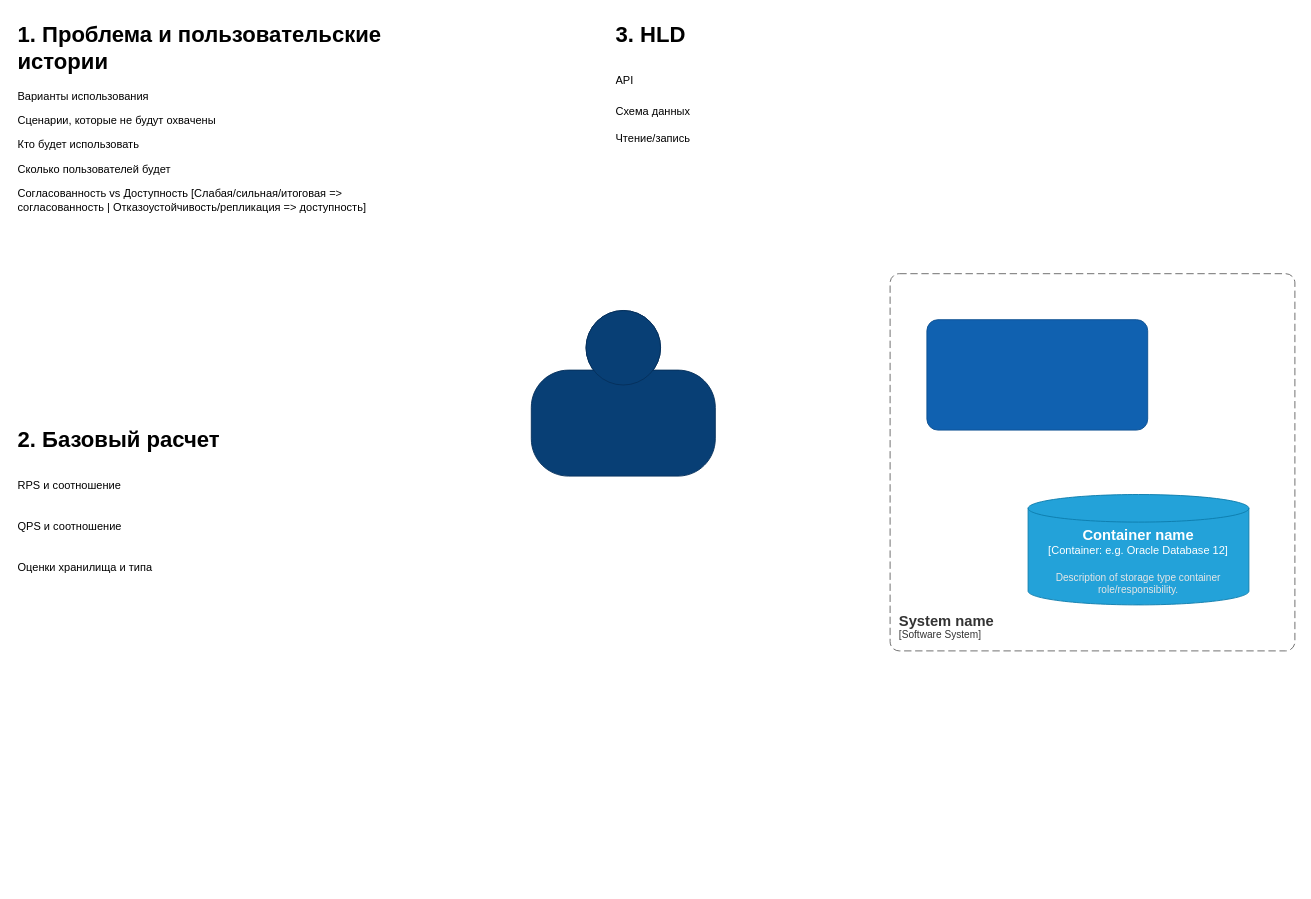
This 1311x899 diagram has some shape labels left out. The centre of each missing label's shape, as x and y in pixels:
"Person name [Person] Description of person." belongs at [622,393].
"System name [Software System] Description of software system." belongs at [1037,374].
